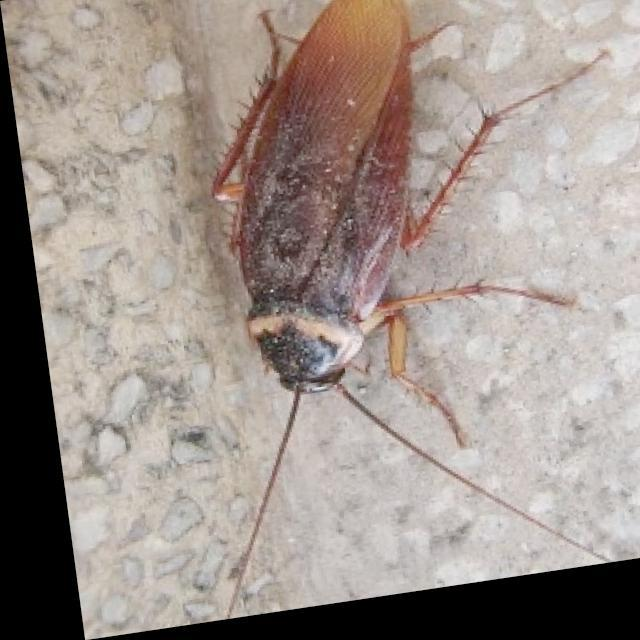cockroach: (205, 1, 613, 617)
